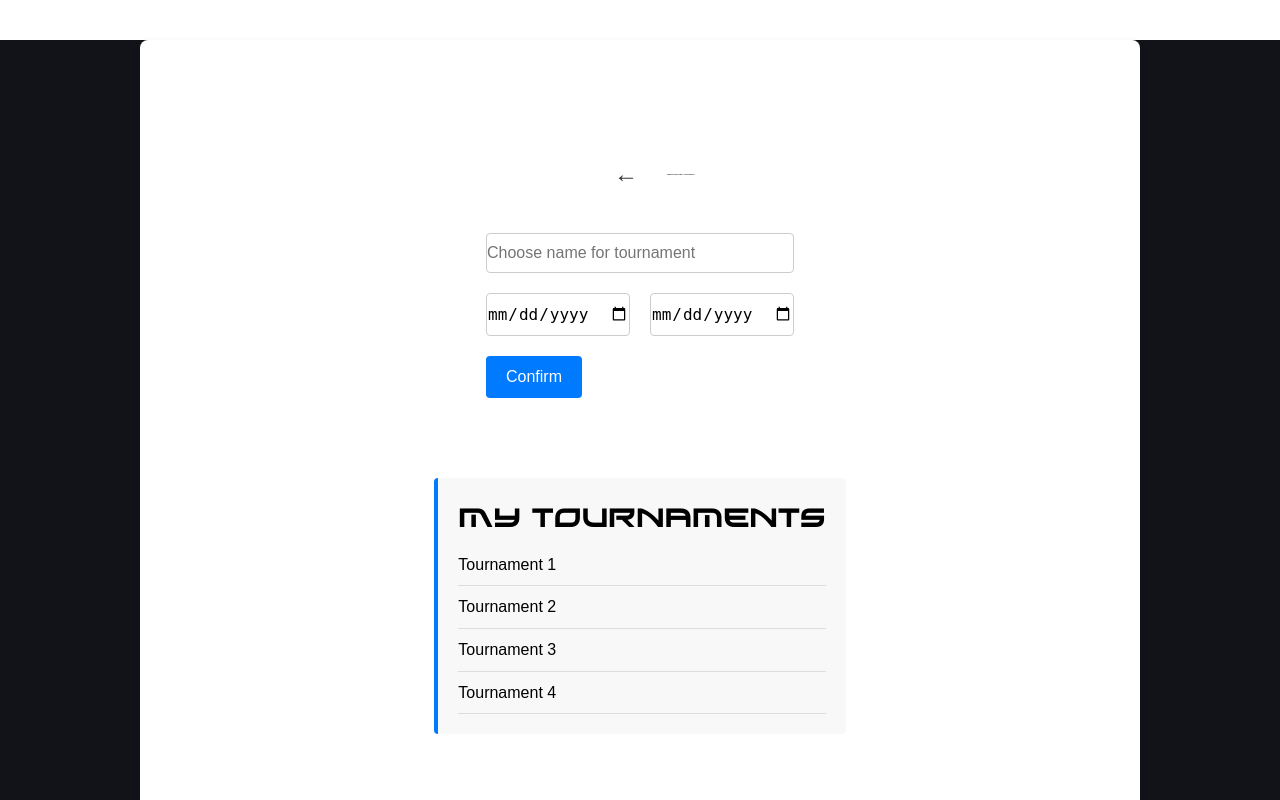
CreateTournament - BDD style › Givet at slutdato er før startdato, vises en fejlbesked
The width and height of the screenshot is (1280, 800).
Type "Fejldato Cup" into the field with placeholder "Choose name for tournament".
click(640, 252); type("Fejldato Cup")  # box [486, 232, 794, 272]
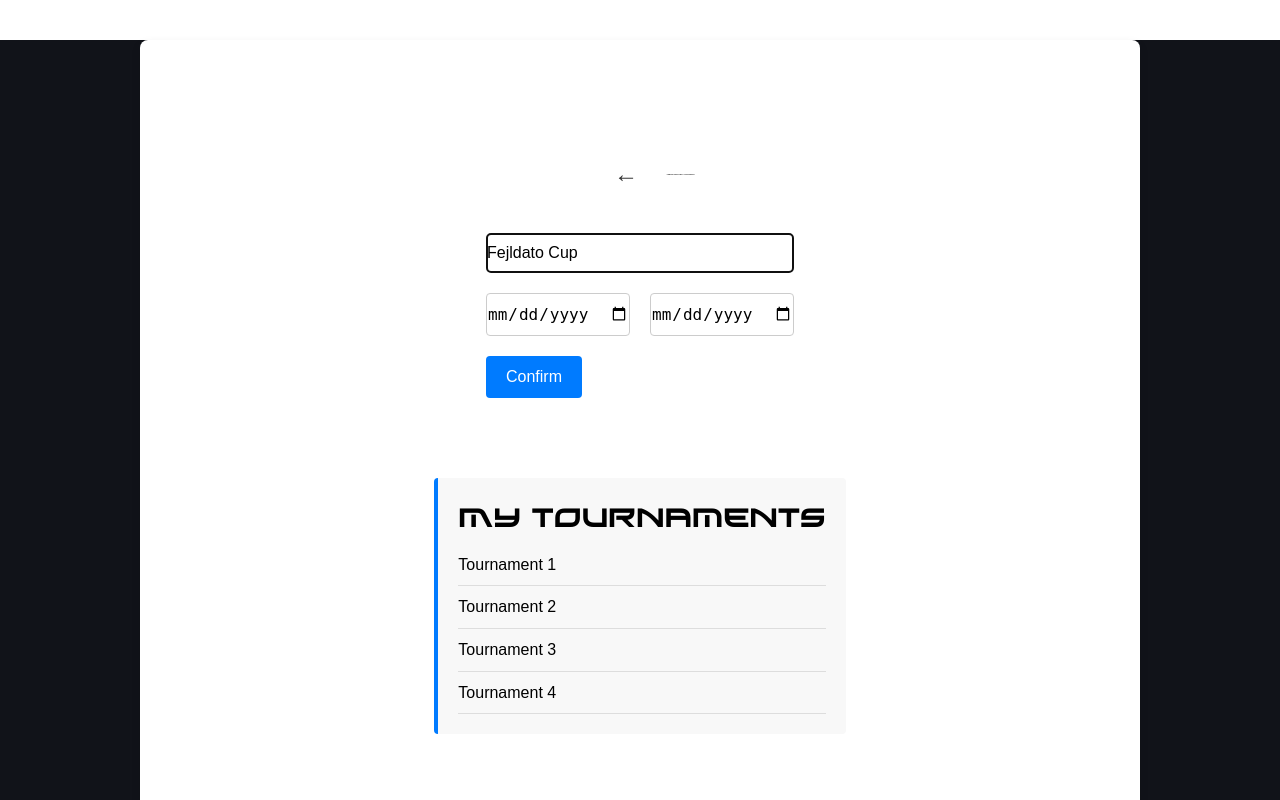
Type "2025-06-10" into the 1st date field.
click(558, 314); type("2025-06-10")  # box [486, 292, 630, 336]
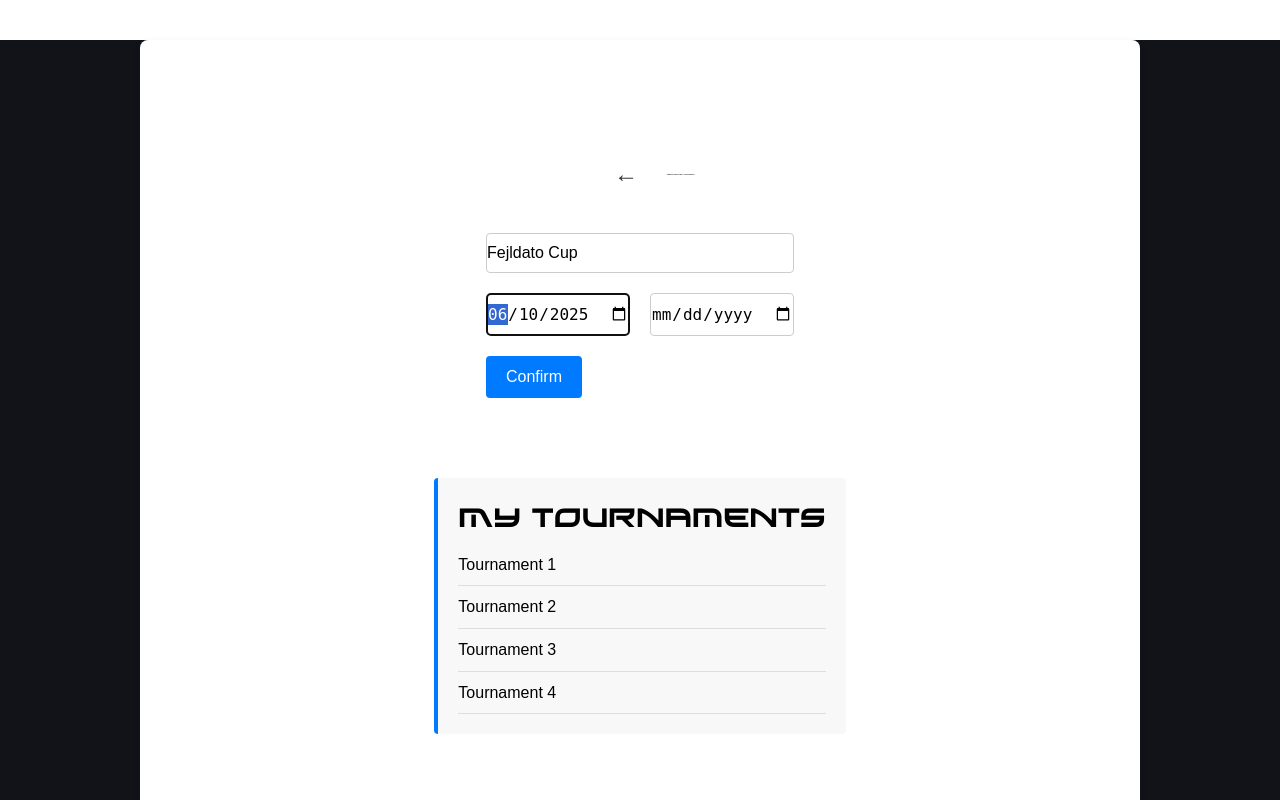
Type "2025-06-01" into the 2nd date field.
click(722, 314); type("2025-06-01")  # box [650, 292, 794, 336]
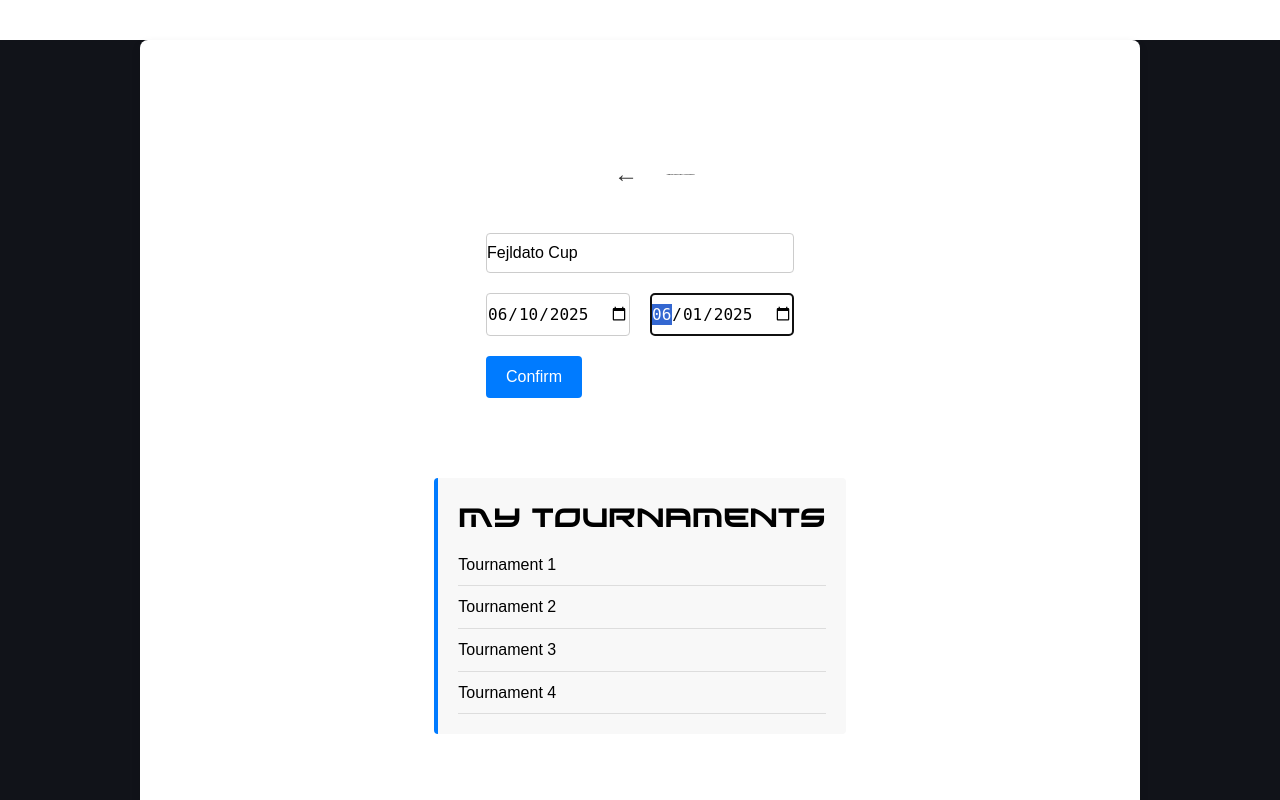
Click the button "Confirm".
click(534, 376)  # box [486, 356, 582, 398]
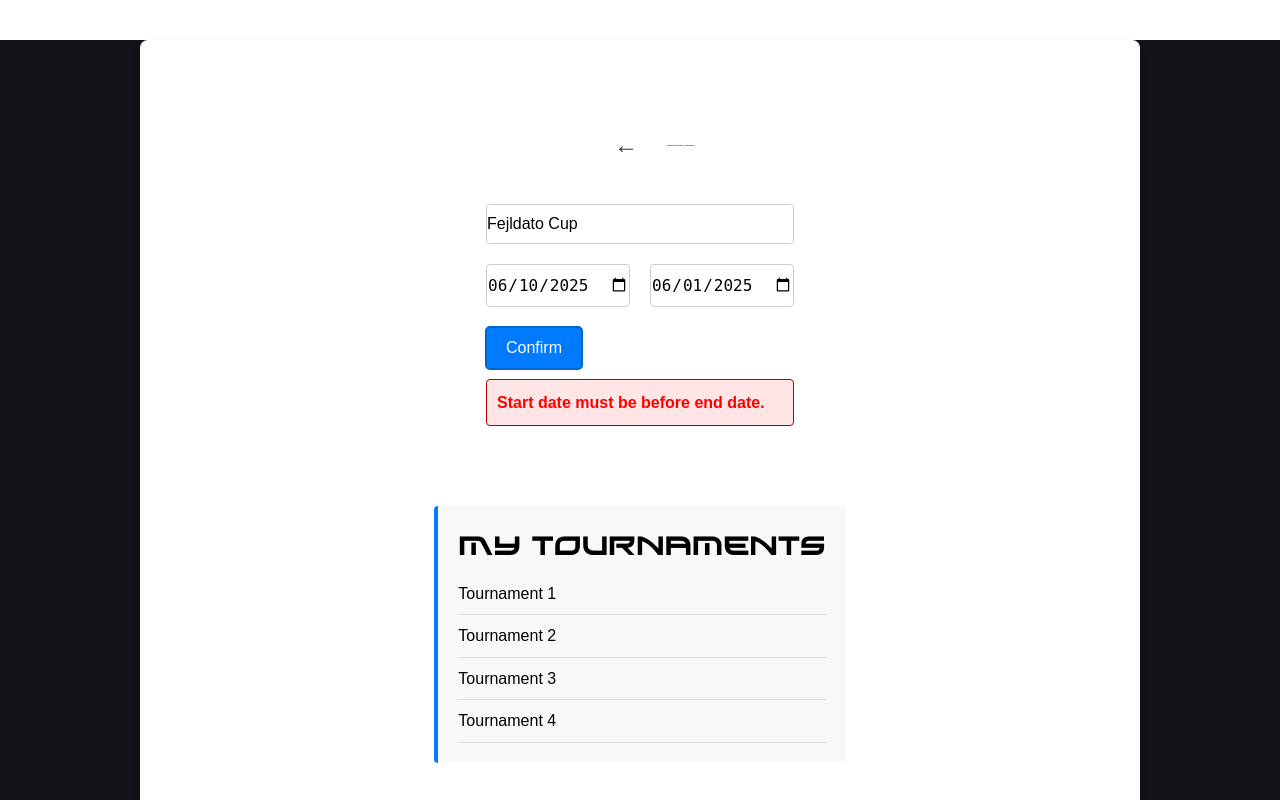
Expected: the text "Start date must be before end date." is shown, [486, 379, 794, 426]
